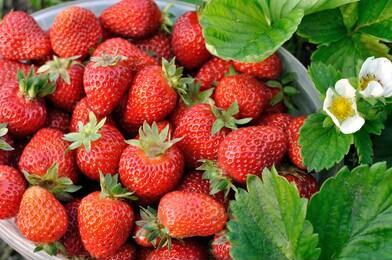Fresa: (211, 121, 291, 188), (116, 134, 184, 206), (117, 63, 180, 134), (76, 188, 136, 260), (153, 187, 228, 244), (14, 182, 71, 248), (73, 122, 131, 183), (80, 55, 134, 119), (35, 56, 92, 115), (1, 8, 54, 65)
